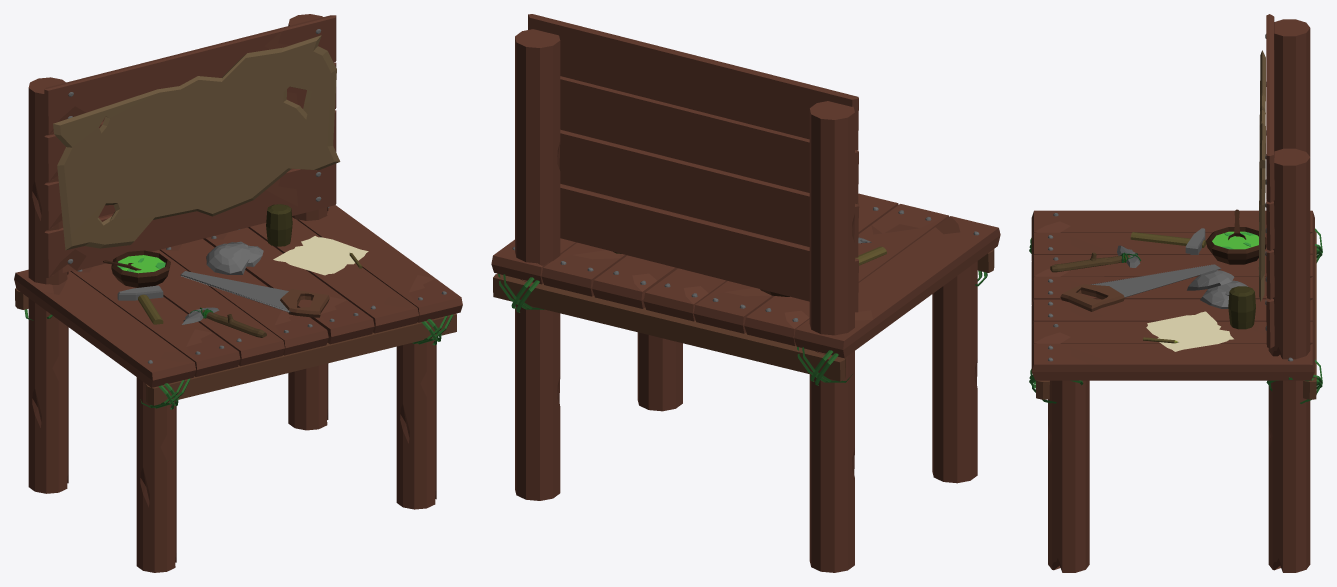
Rendered from workbench.fbx.
3 renders of one model, left to right at view 1: azimuth 30°, elevation 25°; view 2: azimuth 150°, elevation 25°; view 3: azimuth 270°, elevation 25°, orthographic. The views are drawn at different scales.
Visible parts, largest first — view 1: Plane.001; view 2: Plane.001; view 3: Plane.001.
Part boxes in pixels (x1,y1,x2,y2): Plane.001: [14, 14, 462, 572]; Plane.001: [491, 14, 1000, 572]; Plane.001: [1029, 14, 1322, 572].
Size of the model in its own units: 505 by 636 by 406.
